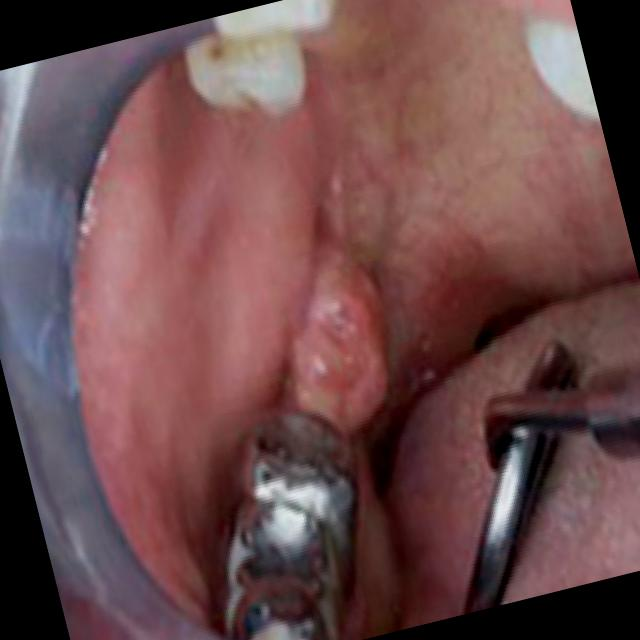Cancer: (35, 99, 262, 476), (371, 2, 558, 254), (258, 222, 421, 439)
